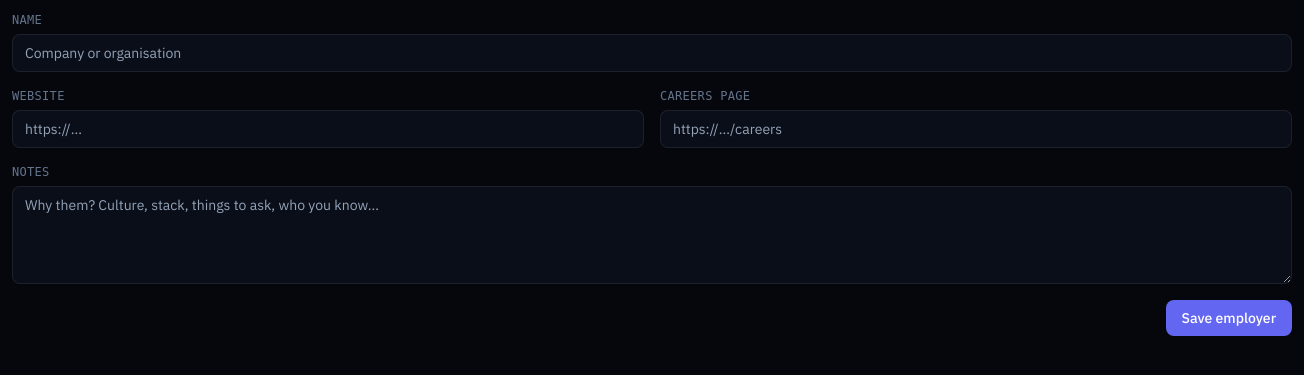
Test: EmployerForm › rejects a javascript: website and never submits
In the field labelled "Name": point(652, 53) [12,34,1292,72], type "Sneaky Inc"
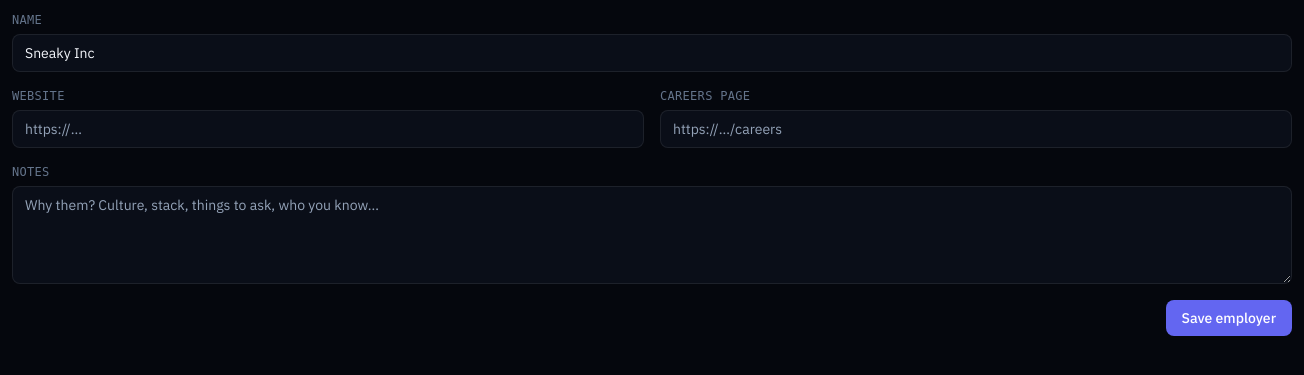
In the field labelled "Website": point(328, 129) [12,110,644,148], type "javascript:alert(1)"
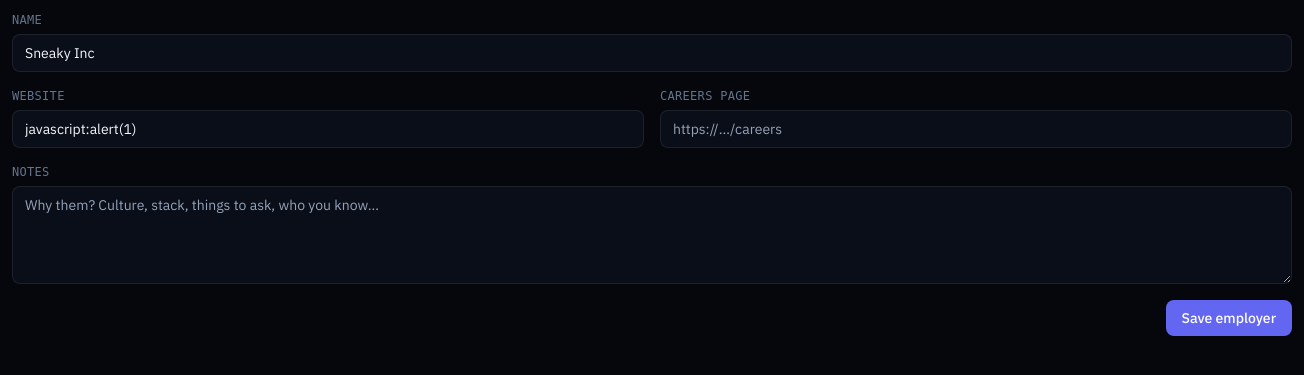
Click the button "Save employer": point(1229, 318) [1166,300,1292,336]
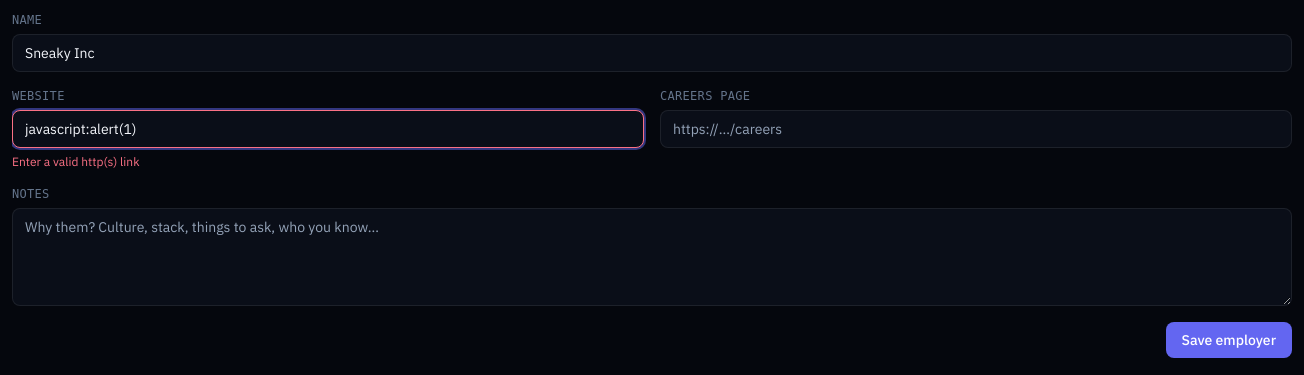
Expected: the text "Enter a valid http(s) link" is shown, [12,154,140,169]
